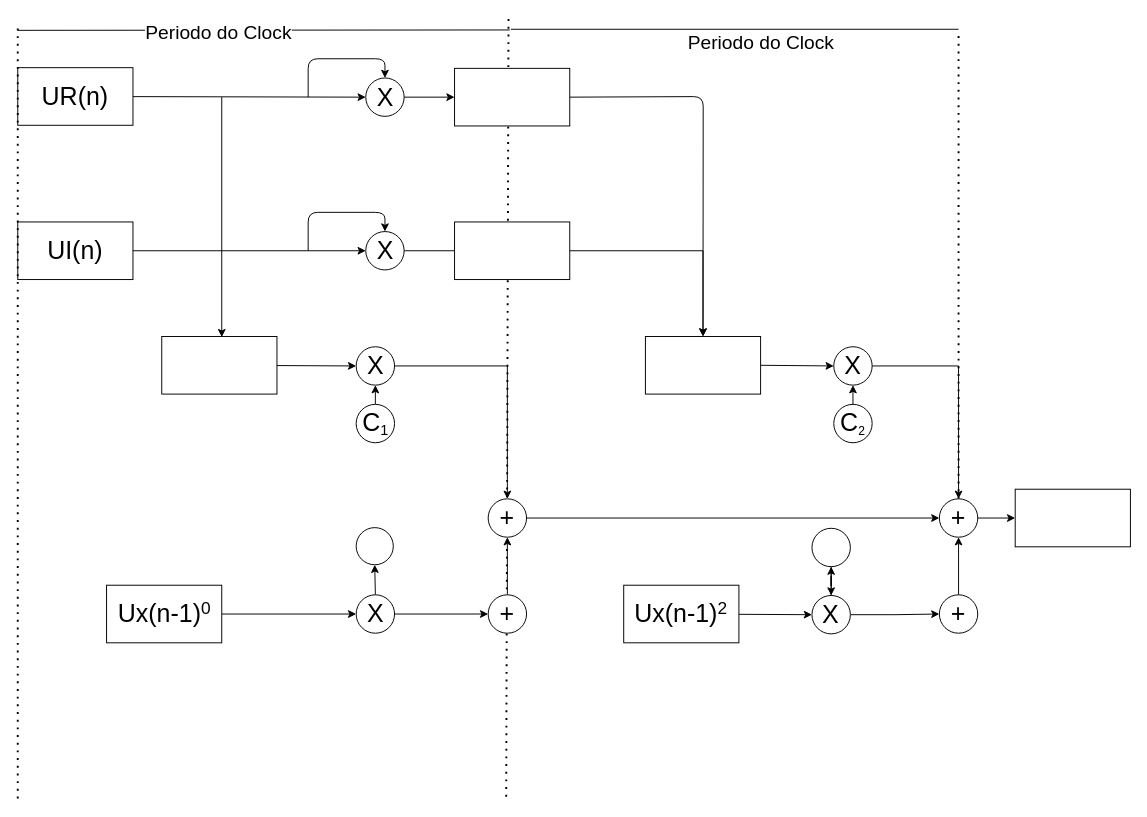
Some shapes in this 1147 by 817 pixel diagram are drawn without their labels. Here are the shapes that lost their labels. From the top down, the centre of each, then its label:
point (512, 96): (UR(n)) 2
point (512, 250): (UI(n)) 2
point (219, 365): Ux(n) 0
point (702, 365): Ux(n) 2
point (1072, 517): XR XI
point (374, 546): C 3
point (830, 547): C 4
